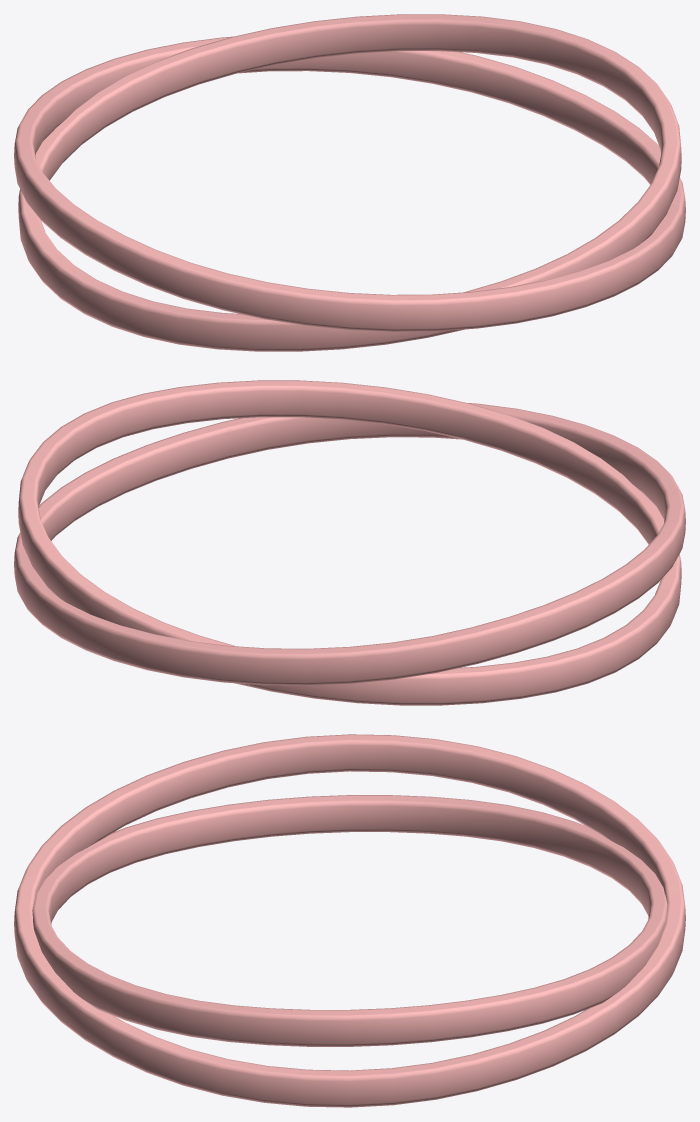
File: 1-pink.gltf
3 views of the same model, one above another, from view 1: azimuth 30°, elevation 25°; view 2: azimuth 150°, elevation 25°; view 3: azimuth 270°, elevation 25° (orthographic).
Parts seen in each view (by area): view 1: Cylinder002, Cylinder001; view 2: Cylinder002, Cylinder001; view 3: Cylinder001, Cylinder002.
Part boxes in pixels (<box>): Cylinder002: <box>18,14,681,351</box>; Cylinder001: <box>14,36,685,331</box>; Cylinder002: <box>18,380,681,705</box>; Cylinder001: <box>14,403,685,685</box>; Cylinder001: <box>14,734,685,1107</box>; Cylinder002: <box>32,795,667,1046</box>.
Size of the model in its own units: 19.83 by 3 by 19.83.
